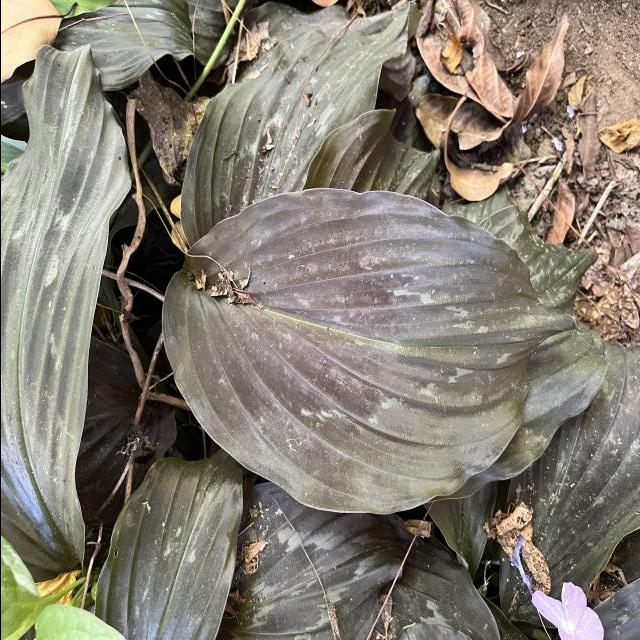Kaempferia galanga linn: (154, 183, 582, 522)
